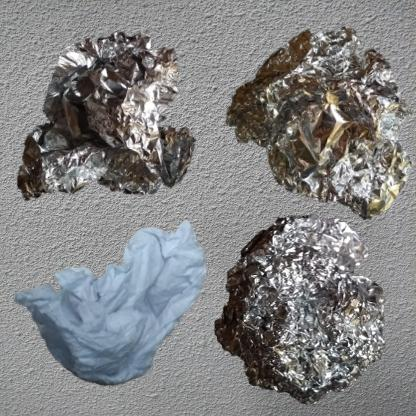aluminio: (10, 10, 230, 249), (213, 10, 416, 229), (213, 213, 386, 406)
papel: (10, 213, 209, 390)
